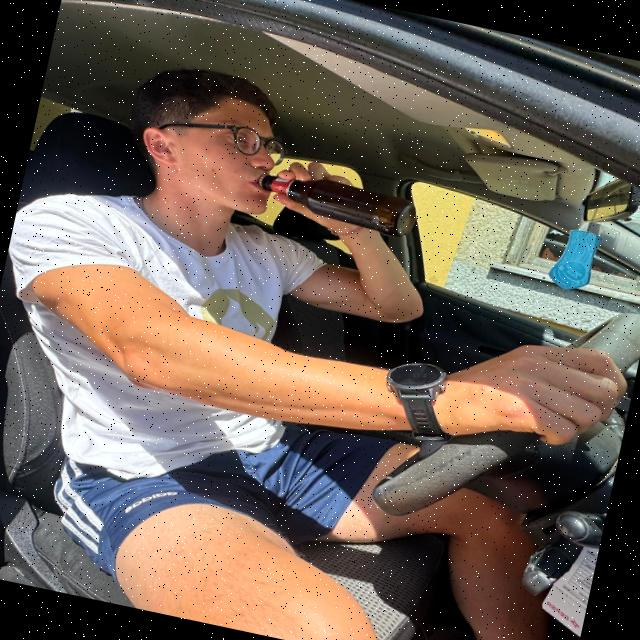Drinking: (210, 145, 462, 264)
